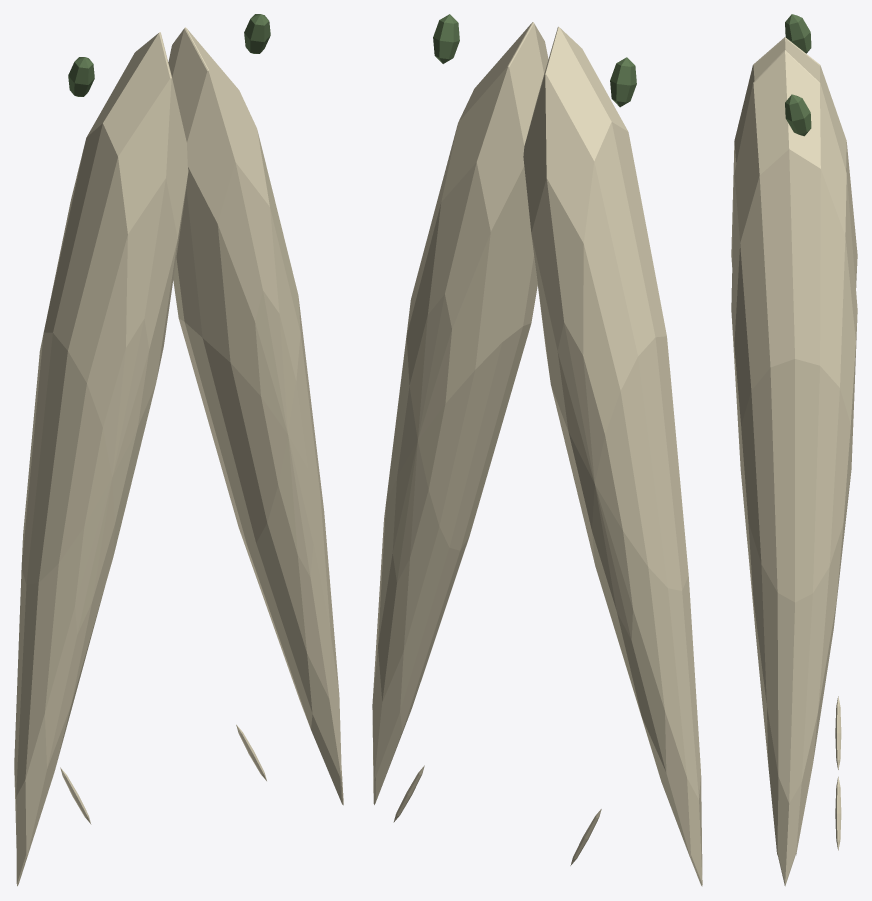
The model's file is parsnips.glb.
The picture shows the model from 3 angles, left to right: view 1: azimuth 30°, elevation 25°; view 2: azimuth 150°, elevation 25°; view 3: azimuth 270°, elevation 25°; orthographic projection. The views are drawn at different scales.
Visible parts, largest first — view 1: parsnips; view 2: parsnips; view 3: parsnips.
Boxes of the visible parts, x1,y1,x2,y2 form: parsnips: (14,14,343,886); parsnips: (372,14,702,886); parsnips: (731,14,857,886).
Size of the model in its own units: 0.0836 by 0.2005 by 0.0299.
